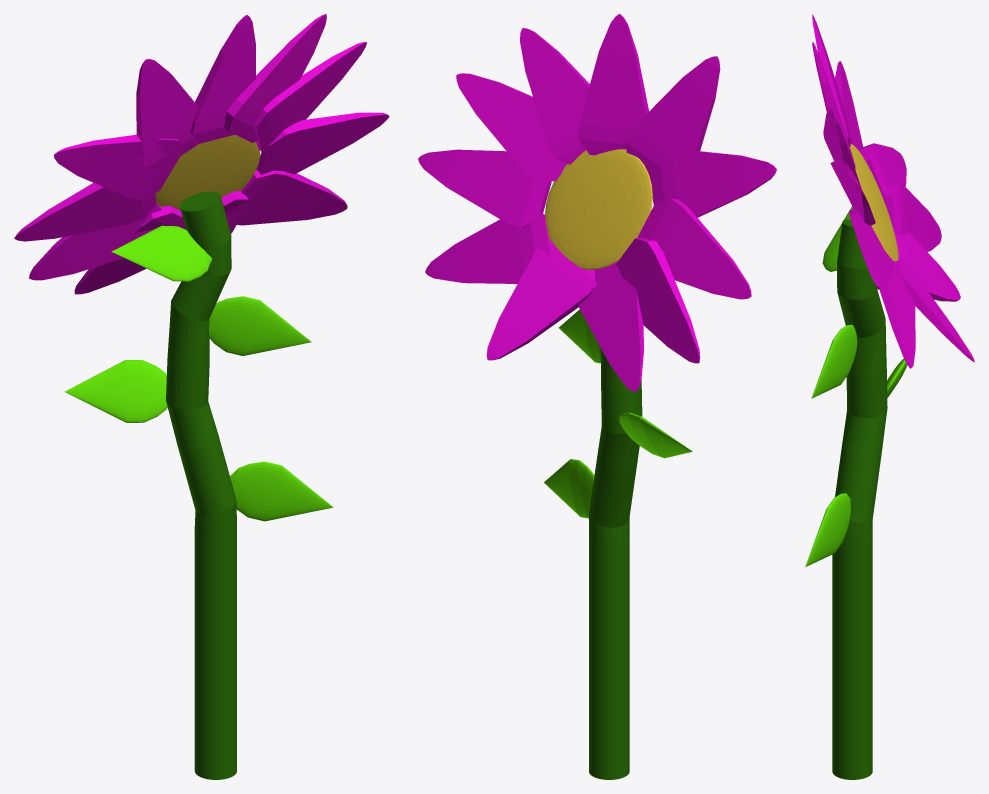
File: pinkFlower.fbx
3 views of the same model, side by side, from view 1: azimuth 30°, elevation 25°; view 2: azimuth 150°, elevation 25°; view 3: azimuth 270°, elevation 25° (orthographic). The views are drawn at different scales.
Parts seen in each view (by area): view 1: pinkFlower; view 2: pinkFlower; view 3: pinkFlower.
Part boxes in pixels (box(x1,y1,x2,y2)): pinkFlower: box(14, 14, 389, 779); pinkFlower: box(418, 14, 776, 779); pinkFlower: box(805, 14, 974, 779).
Size of the model in its own units: 15.18 by 30.94 by 6.49.
